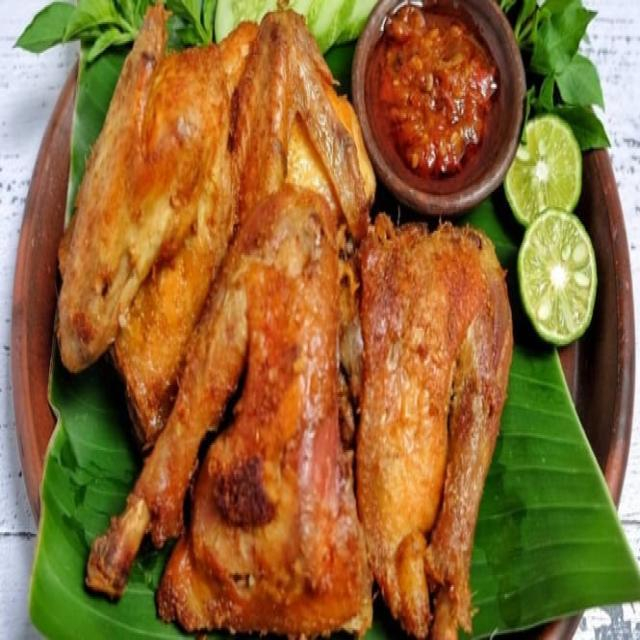ayam_goreng: (67, 14, 529, 622)
